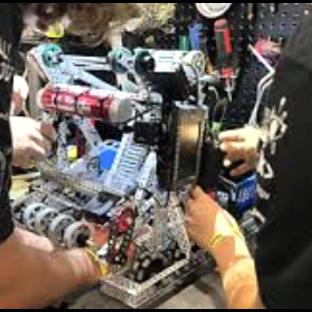Robot: (13, 43, 264, 308), (243, 100, 260, 151)
